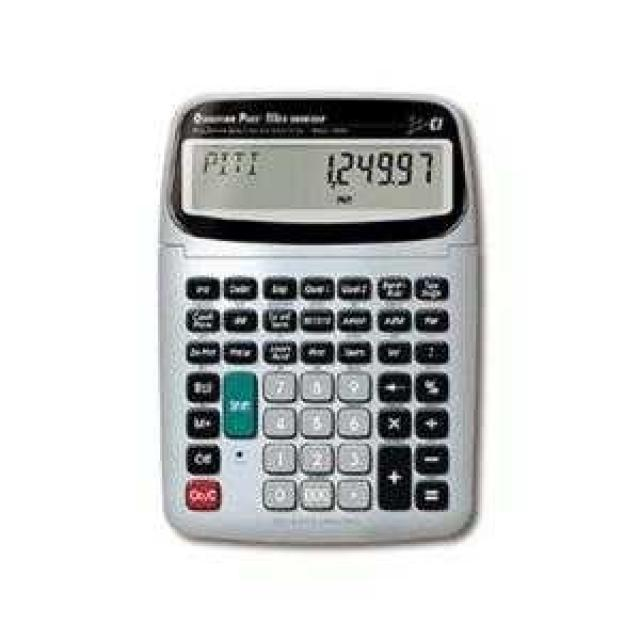Calculator: (160, 94, 480, 542)
